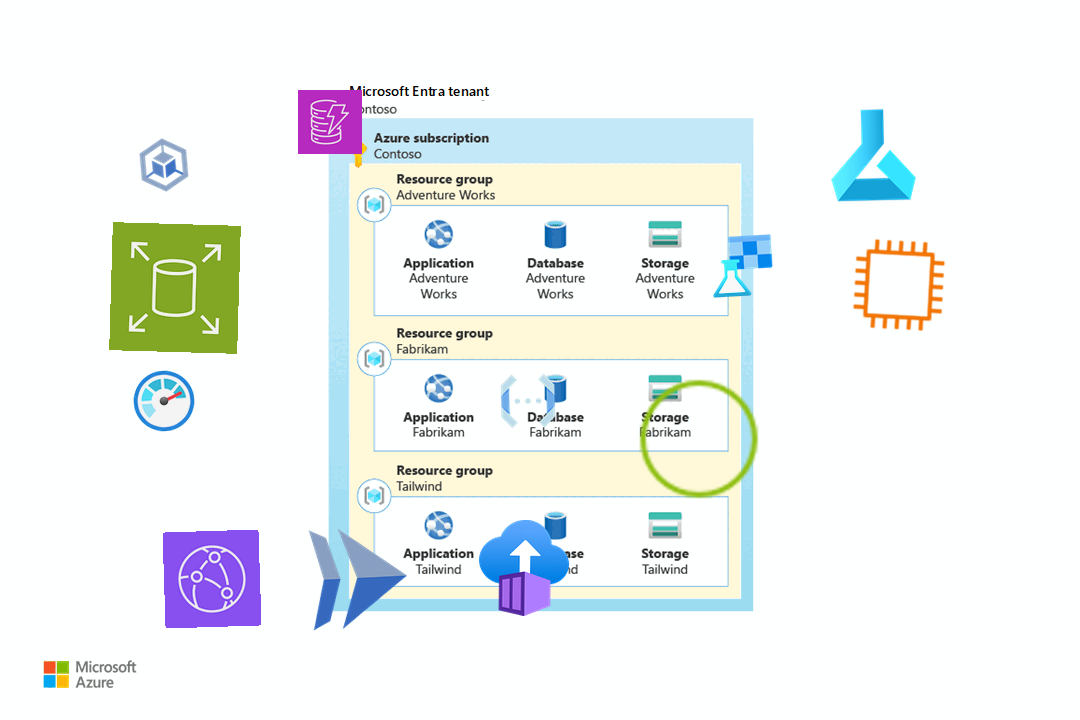aws_amazon_cloudfront: (162, 529, 262, 629)
aws_amazon_dynamodb: (297, 89, 363, 155)
aws_amazon_elastic_block_store: (109, 222, 241, 354)
aws_ec2_instance: (848, 234, 950, 336)
aws_simple_storage_service_object: (634, 374, 764, 504)
azure_container_instances: (475, 519, 573, 617)
azure_machine_learning: (823, 105, 923, 205)
azure_machine_learning_studio_workspaces: (708, 232, 776, 300)
azure_monitor: (129, 366, 199, 436)
gcp_cloud_functions: (495, 368, 561, 434)
gcp_cloud_run: (289, 510, 425, 646)
gcp_google_kubernetes_engine: (129, 130, 199, 200)
